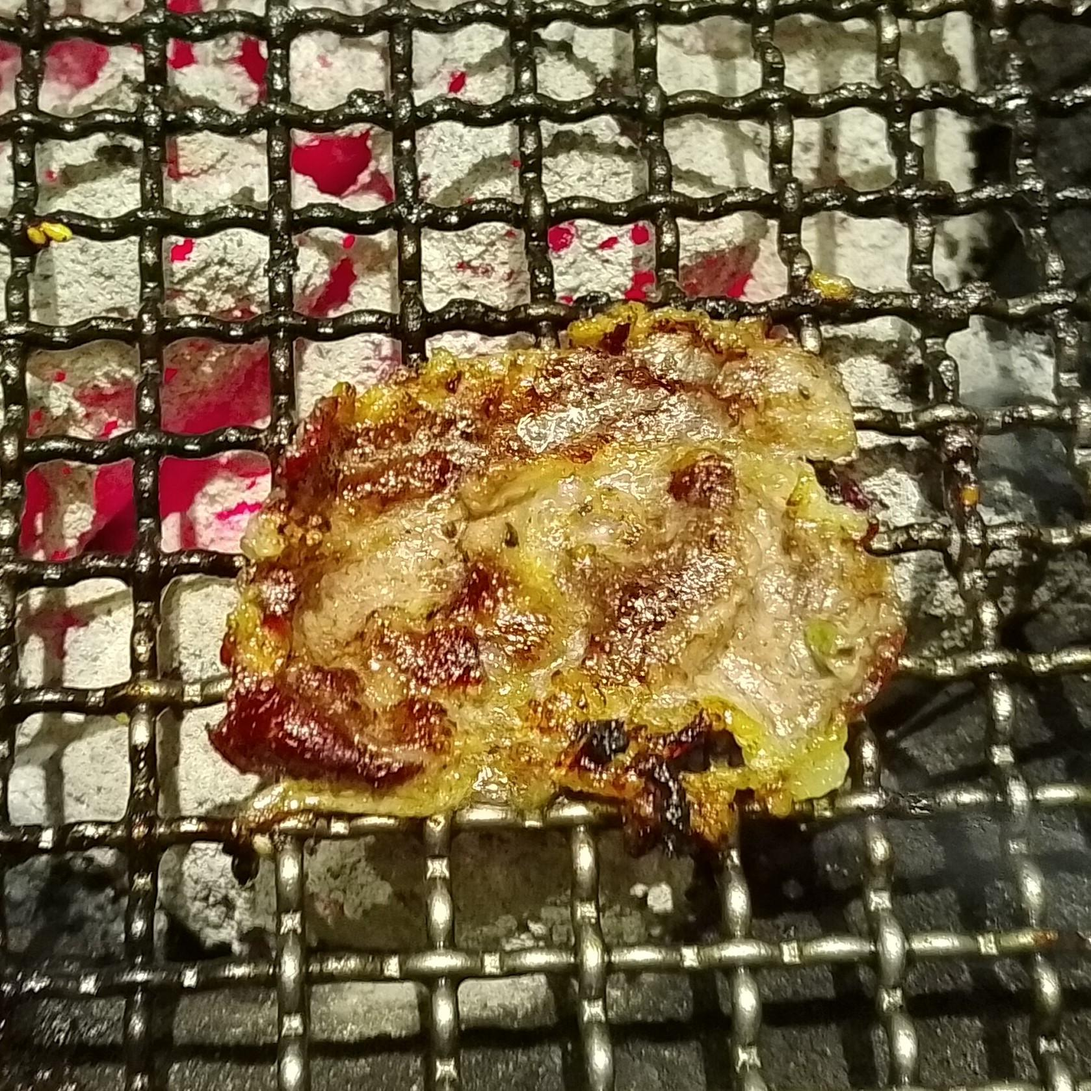Overcooked: (207, 302, 906, 851)
